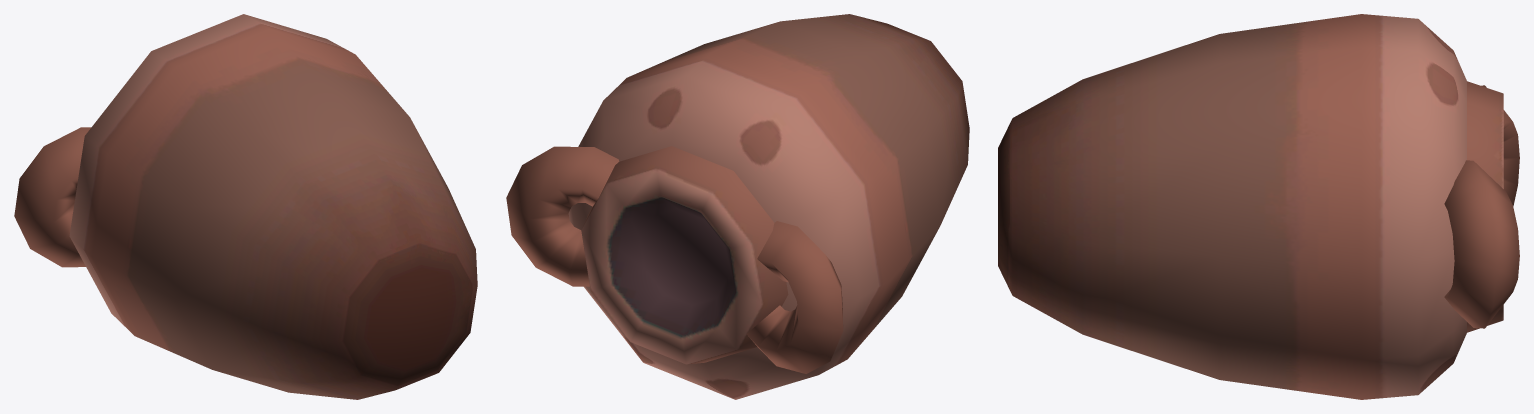
The model's file is Pottery_02_Solid.fbx.
3 renders of one model, left to right at view 1: azimuth 30°, elevation 25°; view 2: azimuth 150°, elevation 25°; view 3: azimuth 270°, elevation 25°, orthographic. The views are drawn at different scales.
Visible parts, largest first — view 1: Pottery_02_Solid; view 2: Pottery_02_Solid; view 3: Pottery_02_Solid.
Part boxes in pixels (<box>): Pottery_02_Solid: <box>14,14,477,399</box>; Pottery_02_Solid: <box>506,14,969,399</box>; Pottery_02_Solid: <box>998,14,1519,399</box>.
Bounding box in the file's own units: 180 × 164 × 224.
1 material, 1 textured.
